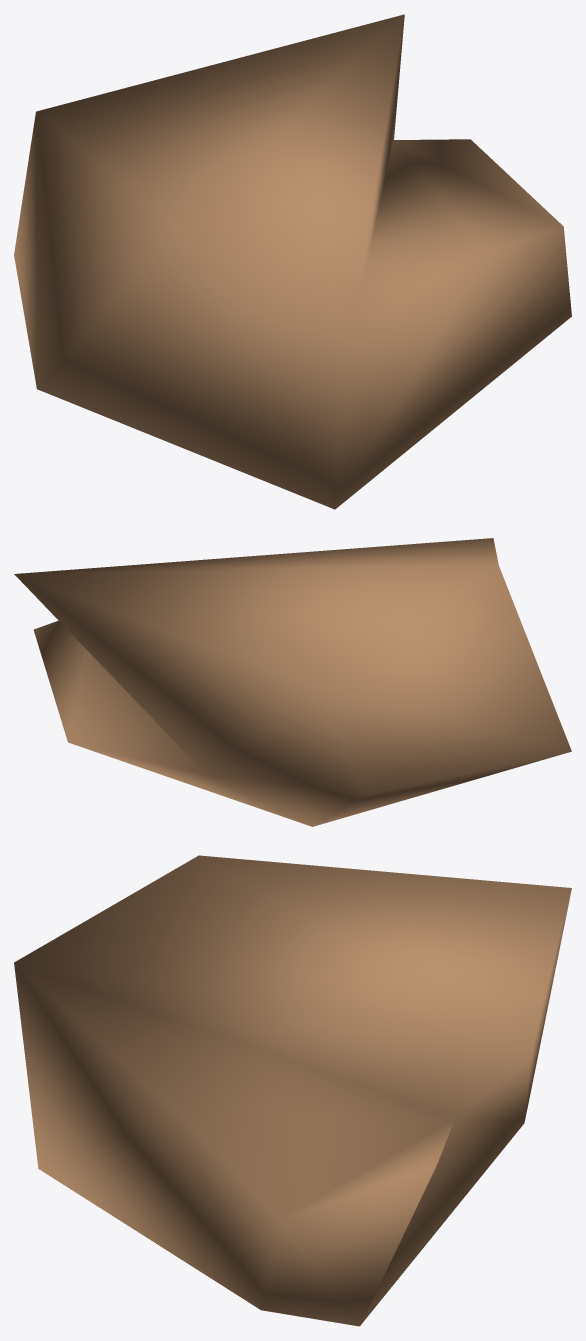
Rendered from MSH_Rock_Single_28.FBX.
3 views of the same model, one above another, from view 1: azimuth 30°, elevation 25°; view 2: azimuth 150°, elevation 25°; view 3: azimuth 270°, elevation 25° (orthographic). The views are drawn at different scales.
Visible parts, largest first — view 1: MESH_ROCK_04; view 2: MESH_ROCK_04; view 3: MESH_ROCK_04.
Boxes of the visible parts, box(x1,y1,x2,y2) form: MESH_ROCK_04: box(14, 14, 571, 509); MESH_ROCK_04: box(14, 538, 571, 826); MESH_ROCK_04: box(14, 855, 571, 1326).
Bounding box in the file's own units: 7.3 × 3.44 × 6.07.
